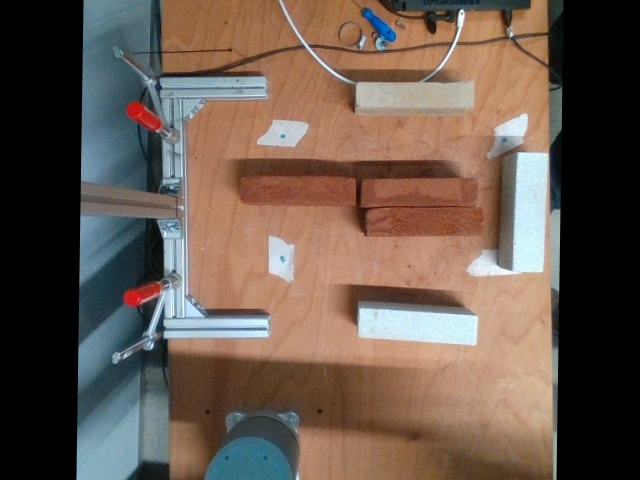brick-side: (358, 308, 479, 343), (513, 151, 548, 268), (360, 175, 477, 206), (367, 208, 482, 236), (241, 176, 356, 203), (357, 80, 473, 106)
